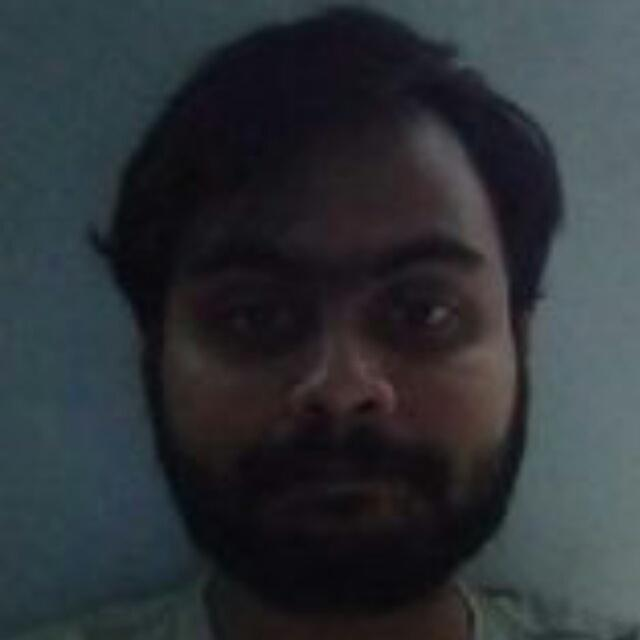Natural: (116, 116, 526, 612)
